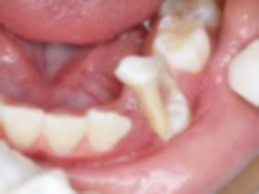Caries: (127, 79, 169, 138)
